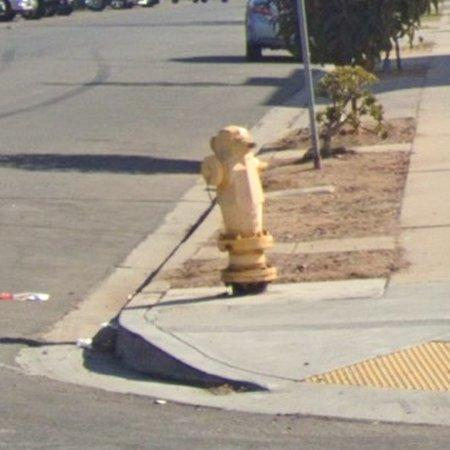a fire hydrant: (203, 126, 277, 296)
